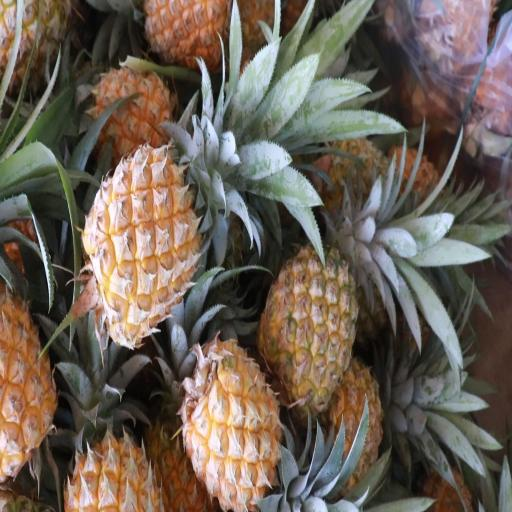------------------------------: (262, 251, 354, 411)
Pineapple - v8 v1: (87, 151, 198, 342), (183, 344, 281, 508), (62, 375, 160, 512), (0, 294, 56, 474), (88, 66, 176, 153)
